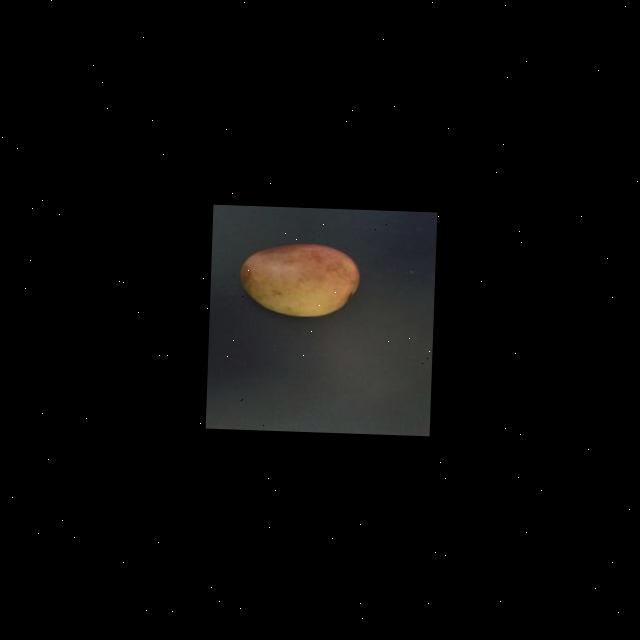Mango: (237, 239, 361, 318)
